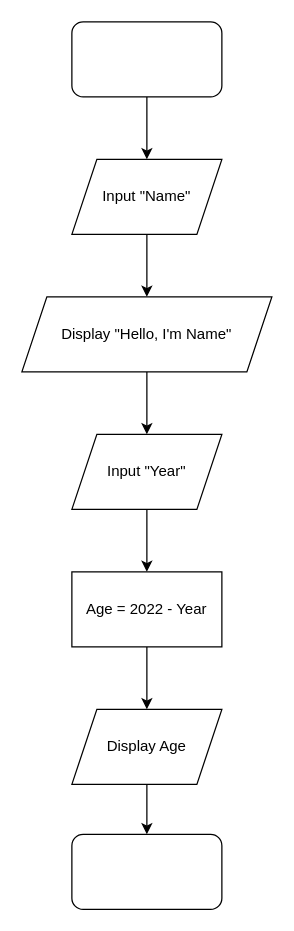
Some shapes in this 294 by 931 pixel diagram are drawn without their labels. The box of each missing label's shape, as (x1, y1, x2, y2) in pixels:
End: (71, 833, 222, 909)
Start: (71, 21, 222, 97)
